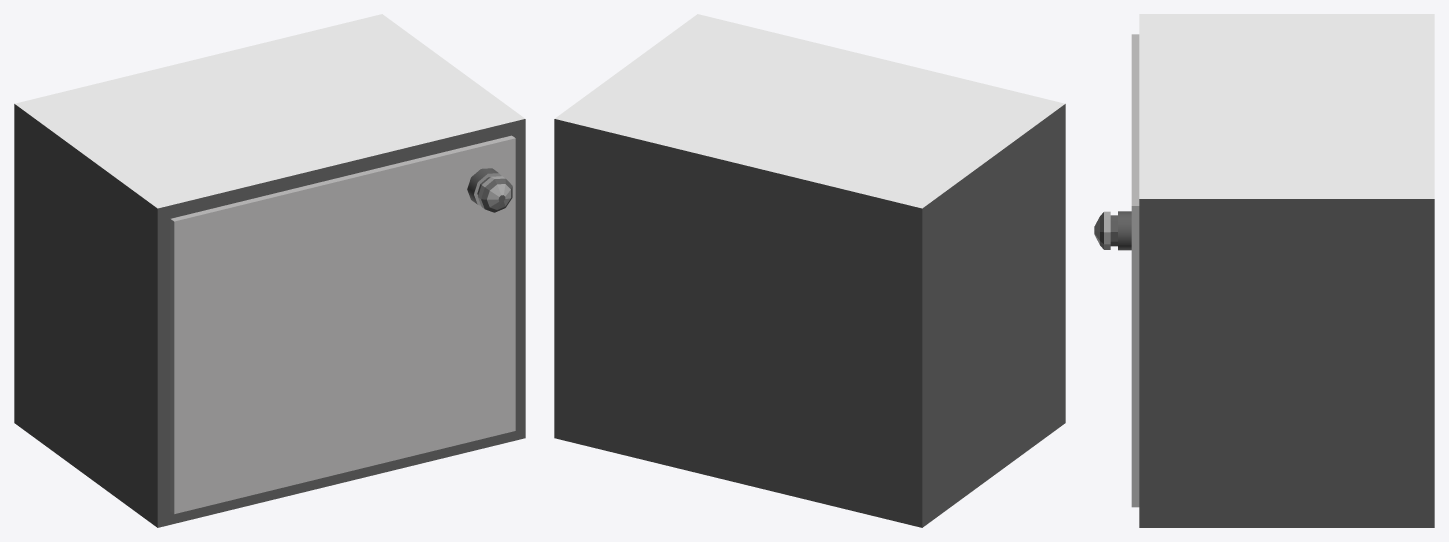
The model's file is Cabinet_Gray_Lower1.fbx.
The picture shows the model from 3 angles, left to right: view 1: azimuth 30°, elevation 25°; view 2: azimuth 150°, elevation 25°; view 3: azimuth 270°, elevation 25°; orthographic projection. The views are drawn at different scales.
Visible parts, largest first — view 1: Cabinet_Gray_Lower1, Cabinet_Gray_Lower1.001; view 2: Cabinet_Gray_Lower1; view 3: Cabinet_Gray_Lower1, Cabinet_Gray_Lower1.001.
Boxes of the visible parts, x1,y1,x2,y2 form: Cabinet_Gray_Lower1: (14, 14, 525, 527); Cabinet_Gray_Lower1.001: (170, 135, 515, 514); Cabinet_Gray_Lower1: (554, 14, 1065, 527); Cabinet_Gray_Lower1: (1139, 14, 1434, 527); Cabinet_Gray_Lower1.001: (1094, 34, 1139, 507).
Bounding box in the file's own units: 100 × 82.98 × 77.72.
